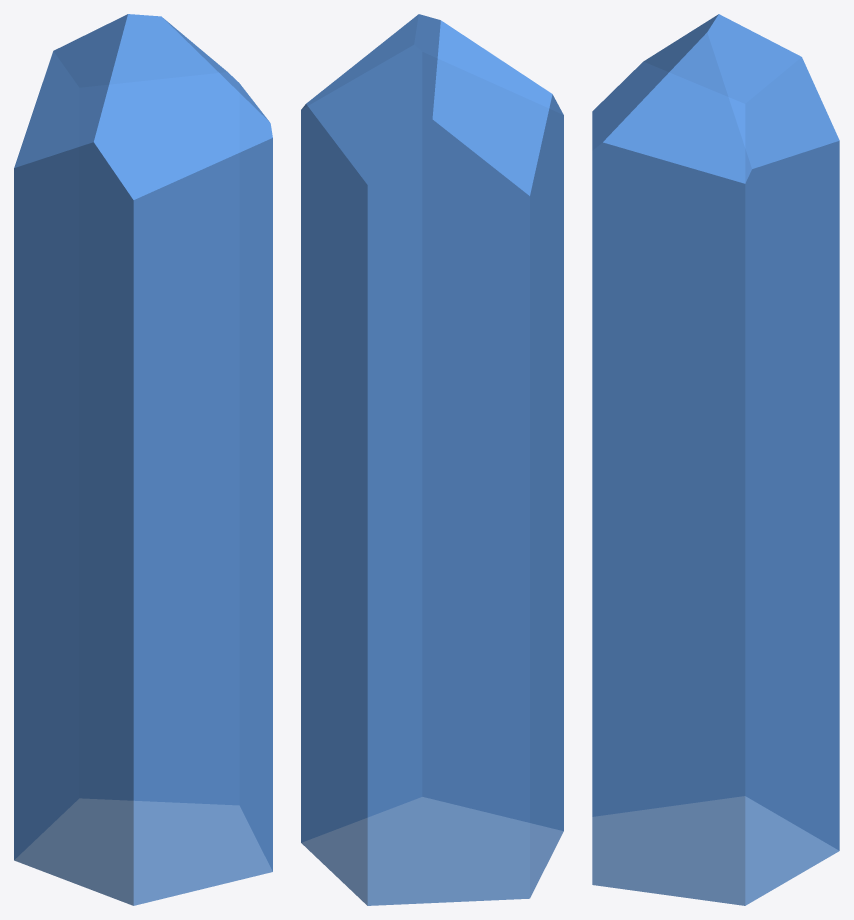
File: Crystal_s_03.fbx
The picture shows the model from 3 angles, left to right: view 1: azimuth 30°, elevation 25°; view 2: azimuth 150°, elevation 25°; view 3: azimuth 270°, elevation 25°; orthographic projection.
Visible parts, largest first — view 1: Crystal_s_03; view 2: Crystal_s_03; view 3: Crystal_s_03.
Boxes of the visible parts, x1=… form: Crystal_s_03: x1=14, y1=14, x2=272, y2=905; Crystal_s_03: x1=301, y1=14, x2=563, y2=905; Crystal_s_03: x1=592, y1=14, x2=839, y2=905.
Bounding box in the file's own units: 19.21 × 67.69 × 18.27.
